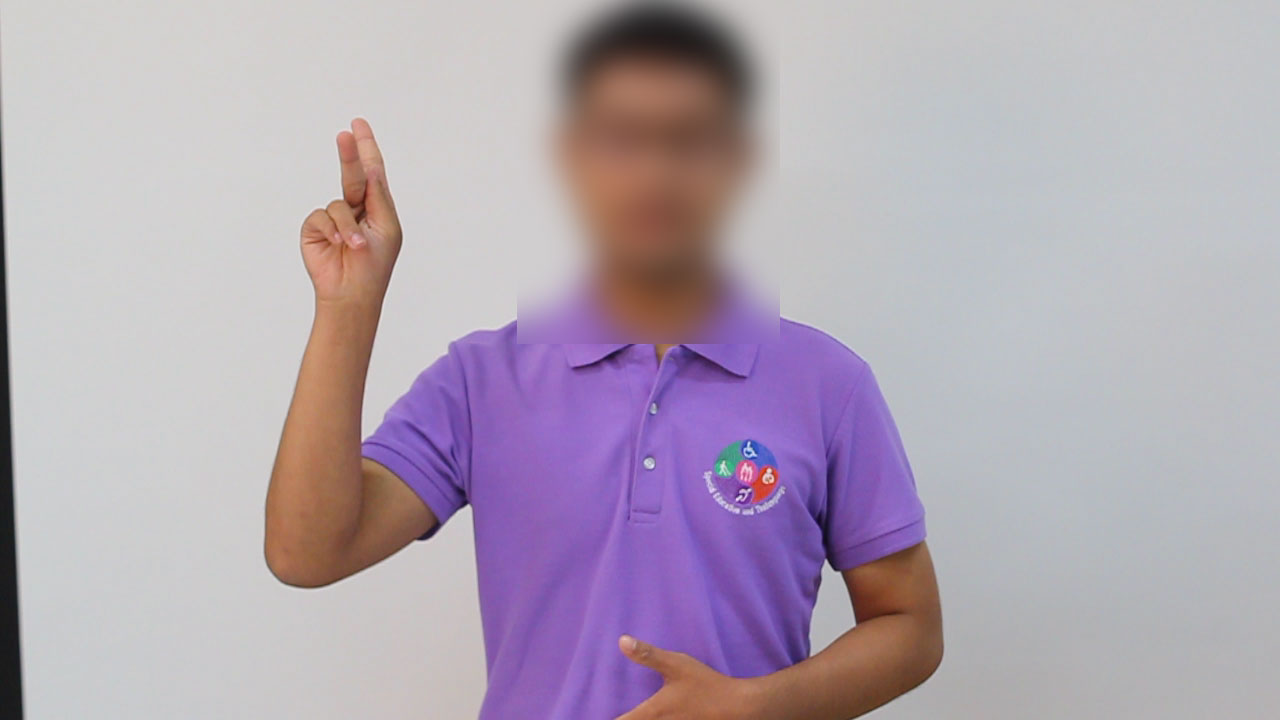ko: (262, 91, 449, 362)
